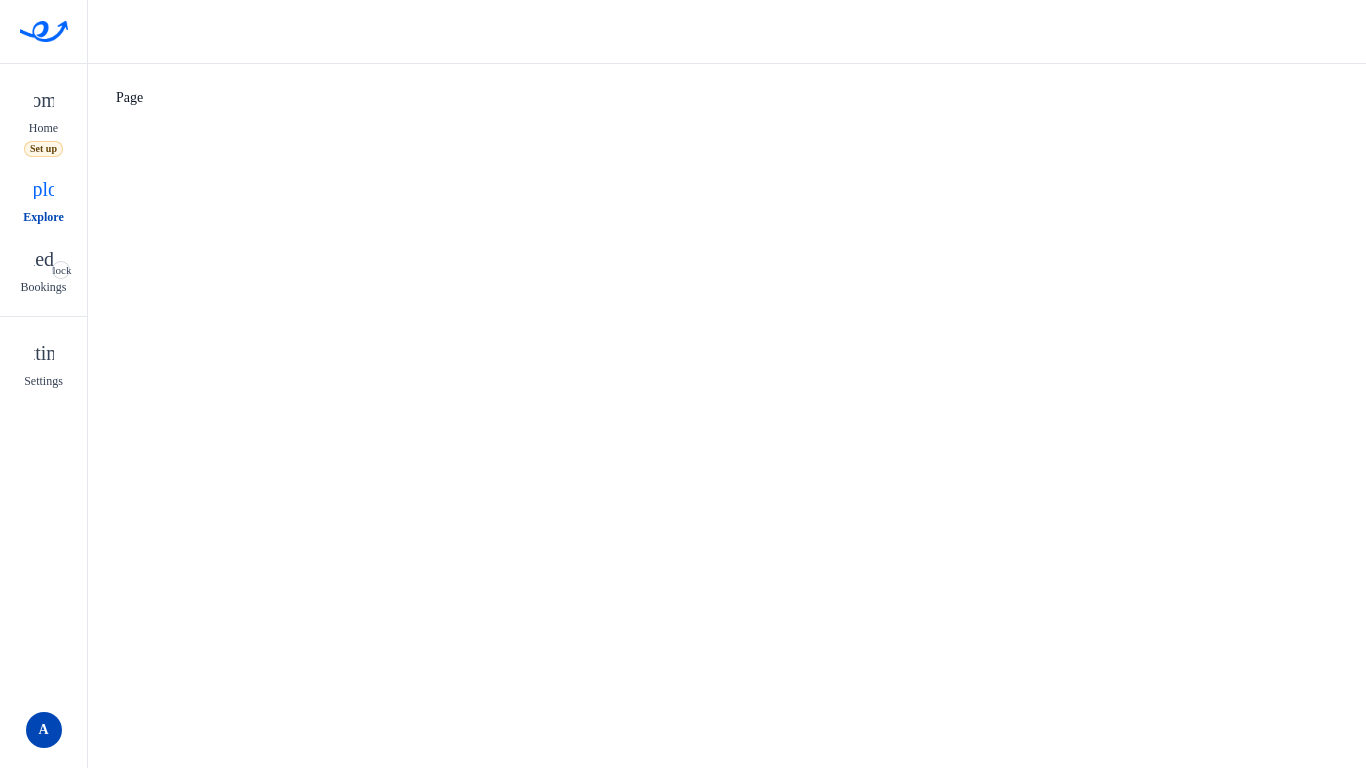
Test case: AppShell: the setup lock (AppShell.dc.html setupLock) › the explainer: title, body, two buttons; Escape closes and focus returns to the item
Click the button with aria-label "Bookings, locked" at (44, 270), box [6, 239, 82, 300]
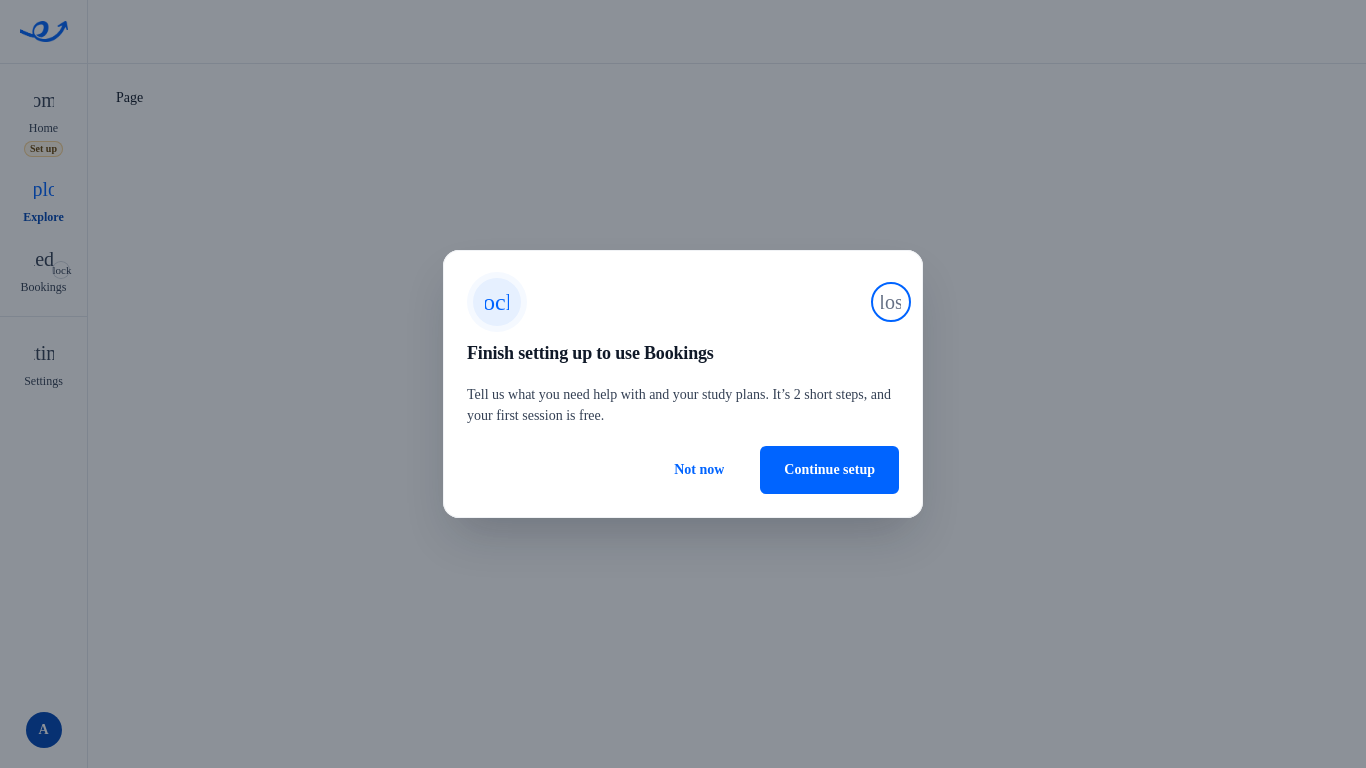
Check: the dialog "Finish setting up to use Bookings" shows "Tell us what you need help with and your study plans. It’s 2 short steps, and your first session is free.", box [467, 387, 891, 423]
Check: the button "Not now" is shown, box [650, 446, 748, 494]
Check: the icon "lock" is shown, box [473, 278, 521, 326]
Press Escape
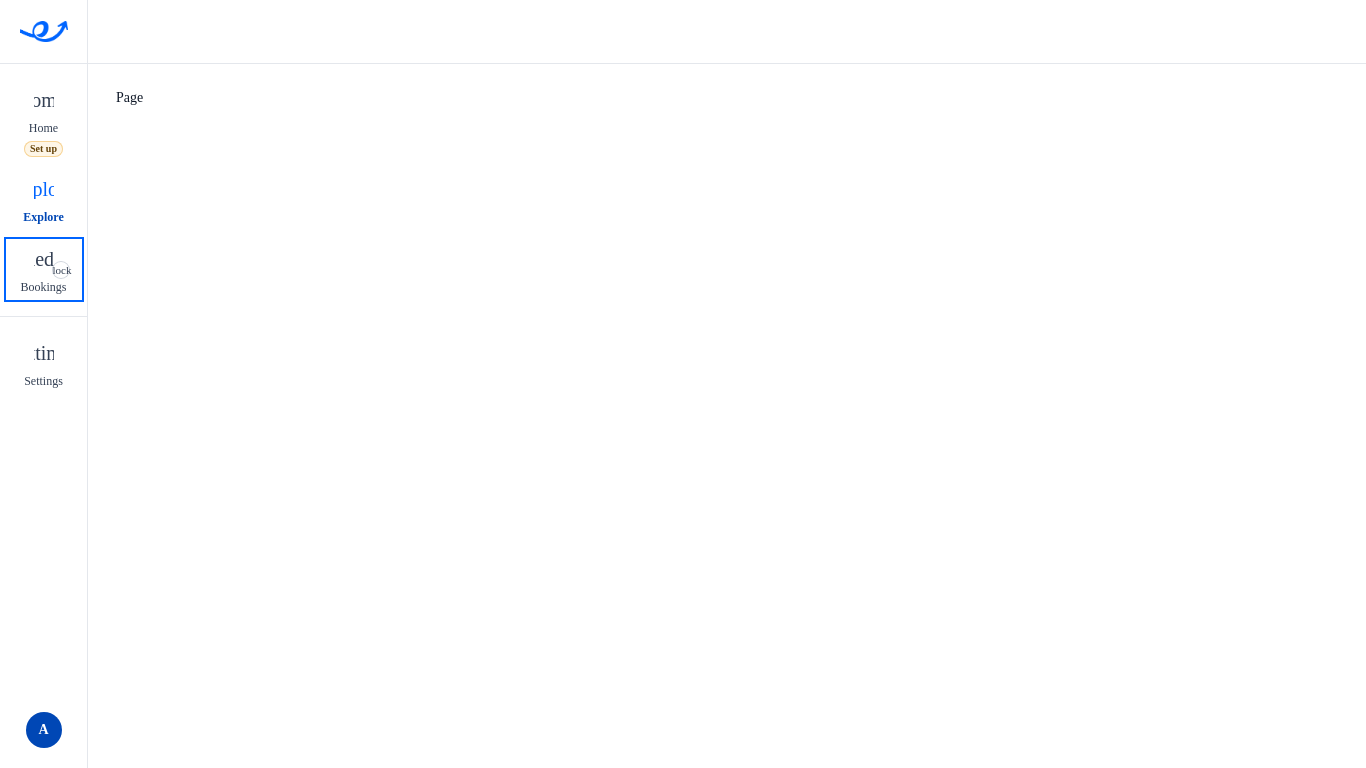
Check: the dialog is gone
